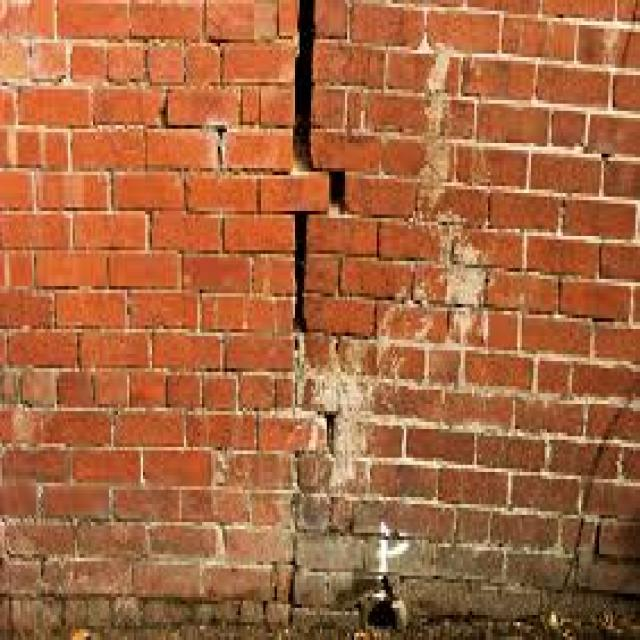Crack: (282, 0, 348, 626)
